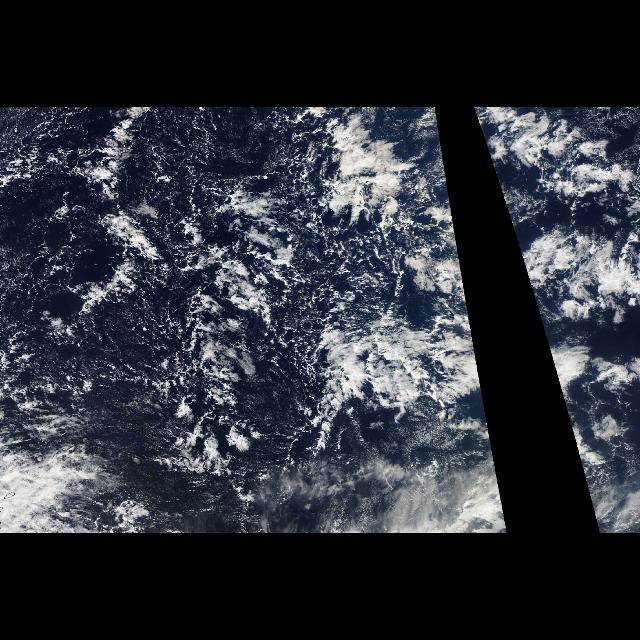Fish: (321, 317, 491, 438), (476, 116, 636, 208), (514, 234, 640, 310), (540, 317, 590, 438), (406, 234, 468, 310), (412, 116, 453, 208)
Gravel: (7, 111, 391, 449)
